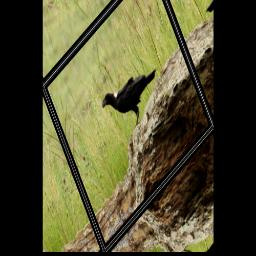Crow: (99, 46, 166, 149)
